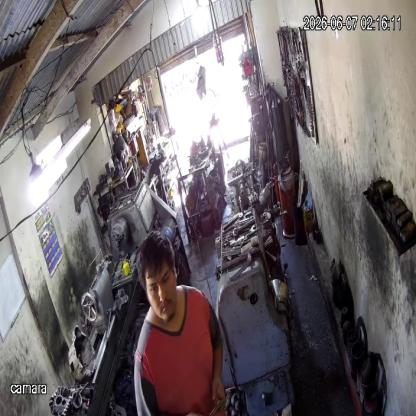sin_lentes: (143, 270, 175, 296)
